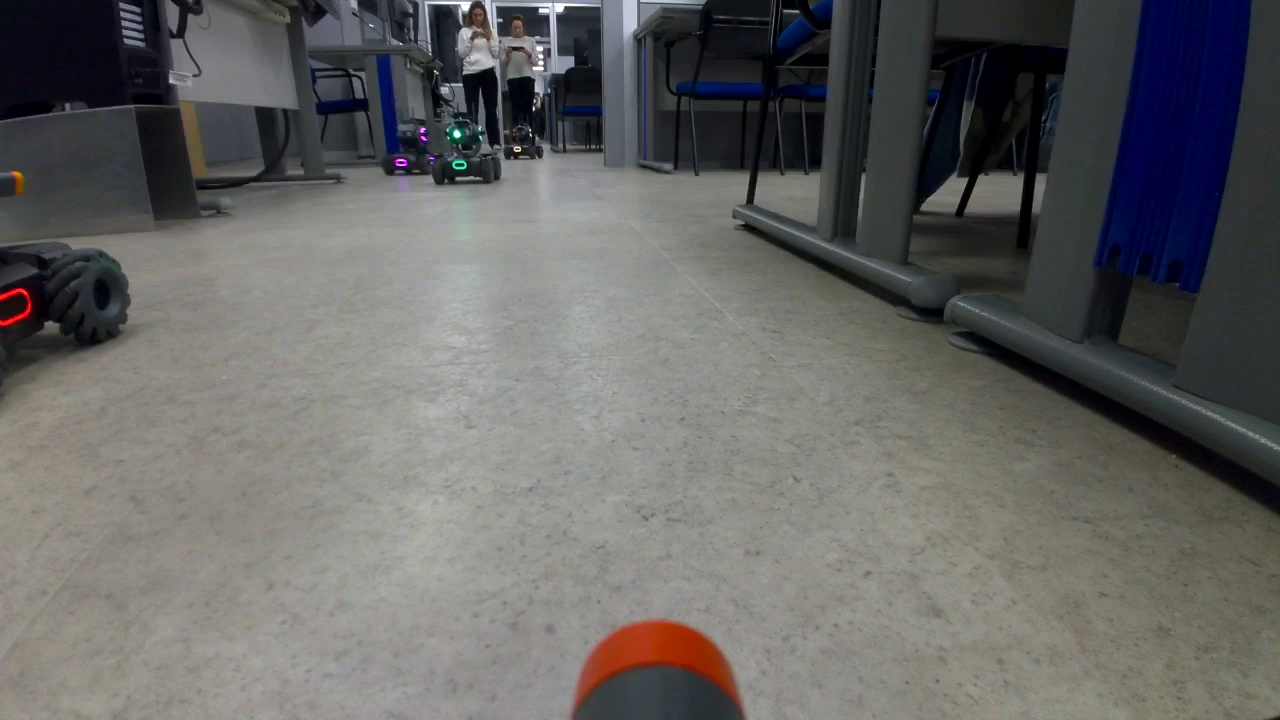robot: (427, 114, 504, 187), (380, 120, 437, 177), (501, 125, 548, 163)
